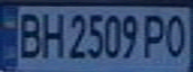0: (103, 11, 124, 60)
2: (66, 9, 87, 60)
5: (84, 10, 106, 60)
9: (121, 11, 142, 60)
B: (12, 9, 45, 60)
H: (36, 9, 66, 60)
O: (160, 10, 193, 58)
P: (139, 10, 172, 60)
